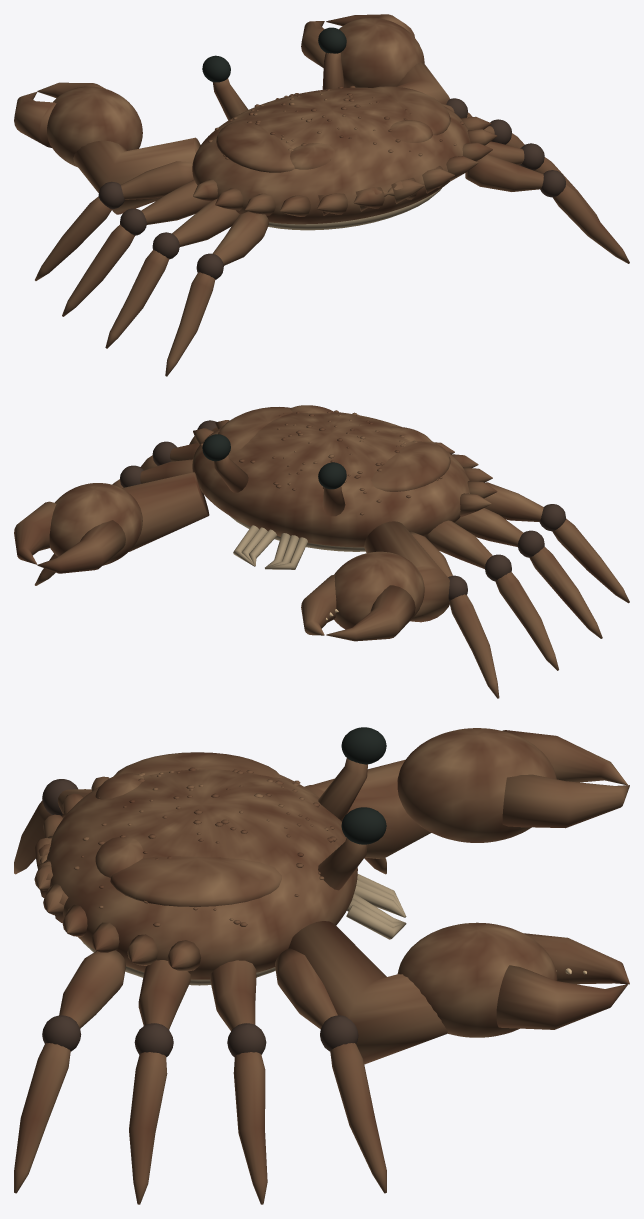
File: caranguejo_grande.glb
3 views of the same model, one above another, from view 1: azimuth 30°, elevation 25°; view 2: azimuth 150°, elevation 25°; view 3: azimuth 270°, elevation 25° (orthographic). The views are drawn at different scales.
Parts seen in each view (by area): view 1: Carapaca_detalhada, Pinça_E, Pinça_D, Pata_D_3_A, Pata_E_3_B, Pata_E_2_B, Pata_E_1_B, Pata_E_0_A, Pata_E_0_B, Pata_D_3_B, Pata_E_3_A, Pata_E_2_A (+9 smaller); view 2: Carapaca_detalhada, Pinça_D, Pinça_E, Dedo_movel_E, Pata_E_0_B, Pata_E_1_B, Pata_E_2_B, Pata_E_3_B, Pata_E_1_A, Dedo_movel_D, Pata_E_2_A, Pata_E_3_A (+5 smaller); view 3: Carapaca_detalhada, Pinça_D, Pinça_E, Dedo_movel_D, Pata_D_3_B, Pata_D_0_B, Pata_D_2_B, Pata_D_1_B, Pata_D_3_A, Pata_D_0_A, Dedo_movel_E, Pata_D_1_A (+7 smaller).
Part boxes in pixels (x1,y1,x2,y2): Carapaca_detalhada: (192, 27, 497, 230); Pinça_E: (37, 82, 200, 214); Pinça_D: (301, 17, 449, 104); Pata_D_3_A: (465, 154, 543, 191); Pata_E_3_B: (165, 272, 215, 376); Pata_E_2_B: (105, 249, 169, 348); Pata_E_1_B: (62, 225, 134, 316); Pata_E_0_A: (121, 161, 193, 199); Pata_E_0_B: (35, 196, 112, 280); Pata_D_3_B: (552, 184, 629, 263); Pata_E_3_A: (212, 211, 268, 265); Pata_E_2_A: (172, 198, 239, 246); Carapaca_detalhada: (192, 405, 497, 569); Pinça_D: (37, 472, 209, 573); Pinça_E: (301, 521, 449, 635); Dedo_movel_E: (326, 585, 415, 641); Pata_E_0_B: (449, 594, 499, 698); Pata_E_1_B: (495, 572, 558, 670); Pata_E_2_B: (529, 546, 602, 638); Pata_E_3_B: (552, 518, 629, 603); Pata_E_1_A: (425, 520, 492, 568); Dedo_movel_D: (14, 501, 56, 564); Pata_E_2_A: (454, 508, 523, 546); Pata_E_3_A: (484, 482, 543, 521); Carapaca_detalhada: (34, 727, 406, 985); Pinça_D: (288, 921, 629, 1064); Pinça_E: (305, 728, 629, 858); Dedo_movel_D: (496, 965, 627, 1029); Pata_D_3_B: (14, 1043, 70, 1193); Pata_D_0_B: (330, 1043, 386, 1193); Pata_D_2_B: (129, 1052, 167, 1204); Pata_D_1_B: (233, 1052, 267, 1204); Pata_D_3_A: (59, 950, 125, 1028); Pata_D_0_A: (275, 948, 337, 1029); Dedo_movel_E: (502, 730, 627, 785); Pata_D_1_A: (210, 960, 256, 1030).
Size of the model in its own units: 3.95 by 1.42 by 2.99.
